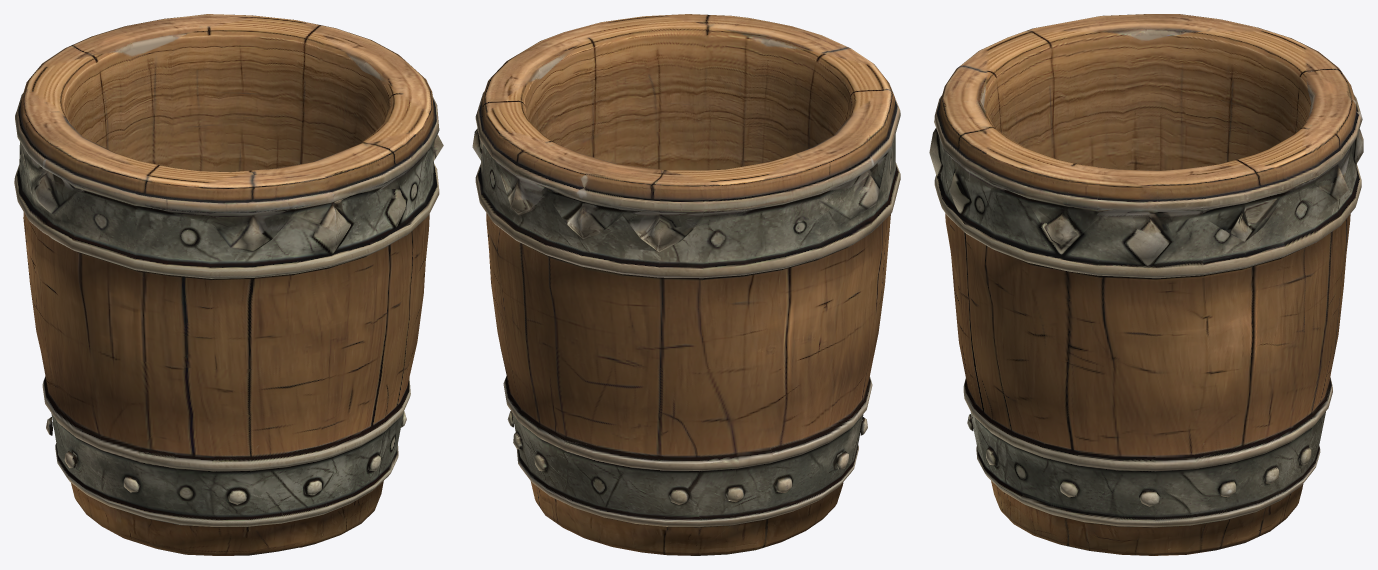
The model's file is cup.fbx.
3 views of the same model, side by side, from view 1: azimuth 30°, elevation 25°; view 2: azimuth 150°, elevation 25°; view 3: azimuth 270°, elevation 25° (orthographic).
Parts seen in each view (by area): view 1: Mesh_0.008; view 2: Mesh_0.008; view 3: Mesh_0.008.
Part boxes in pixels (bbox=[...]): Mesh_0.008: bbox=[14, 14, 443, 555]; Mesh_0.008: bbox=[472, 14, 900, 555]; Mesh_0.008: bbox=[929, 14, 1363, 555].
Bounding box in the file's own units: 38.12 × 38.04 × 37.81.
Materials: 1 (1 with a texture image).
